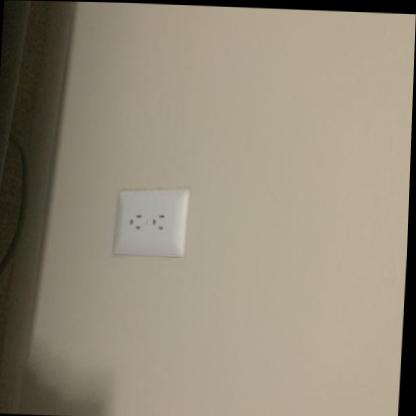OUTLET: (112, 183, 189, 260)
